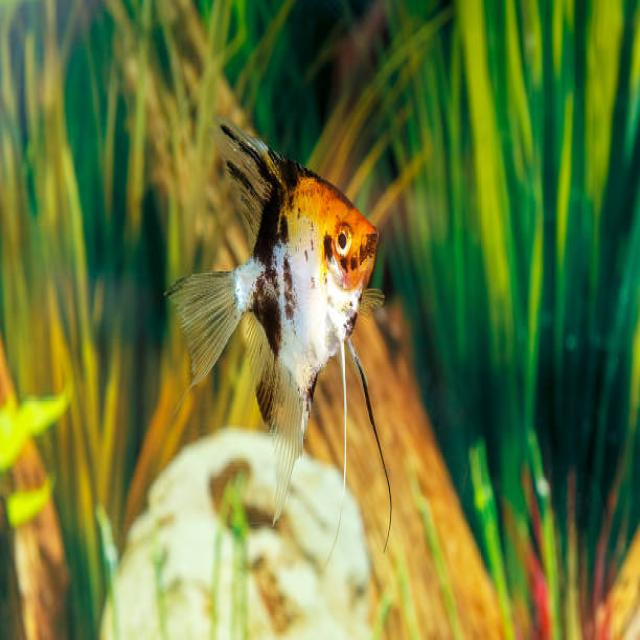AngelFish: (166, 113, 392, 552)
